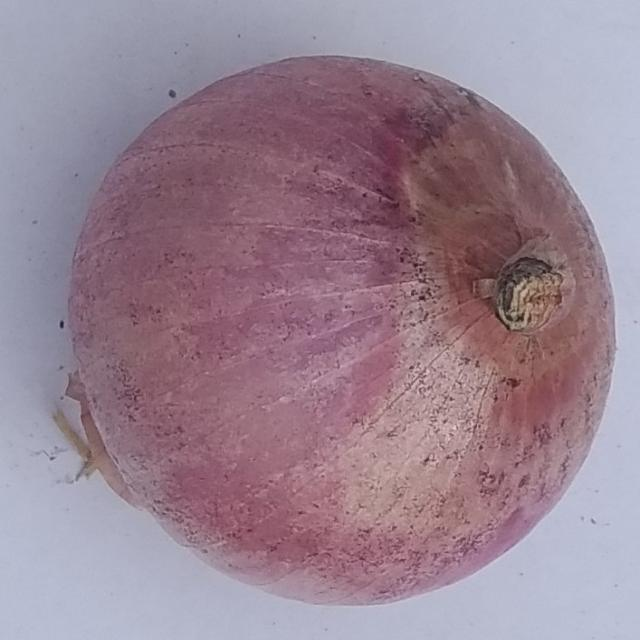onion: (56, 54, 619, 609)
